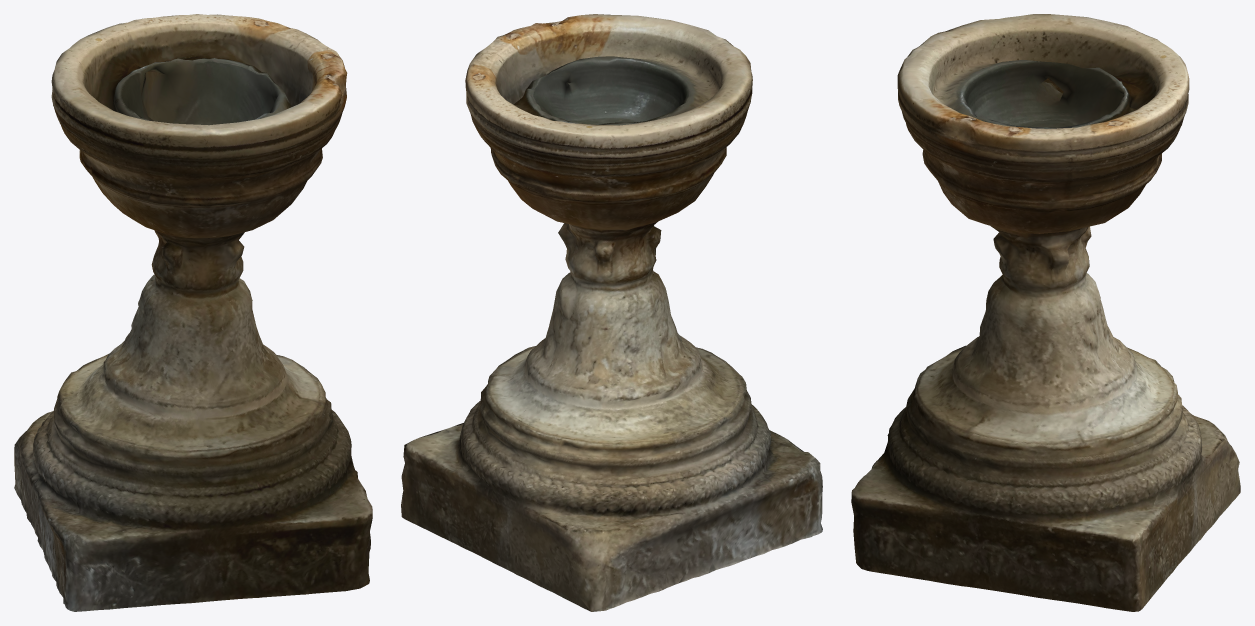
File: acquasantiera.glb
The picture shows the model from 3 angles, left to right: view 1: azimuth 30°, elevation 25°; view 2: azimuth 150°, elevation 25°; view 3: azimuth 270°, elevation 25°; orthographic projection. The views are drawn at different scales.
Parts seen in each view (by area): view 1: Node1; view 2: Node1; view 3: Node1.
Part boxes in pixels (x1=…): Node1: x1=14, y1=14, x2=372, y2=611; Node1: x1=401, y1=14, x2=822, y2=611; Node1: x1=851, y1=14, x2=1240, y2=611.
Size of the model in its own units: 0.6503 by 0.8391 by 0.6456.
Materials: 1 (1 with a texture image).
